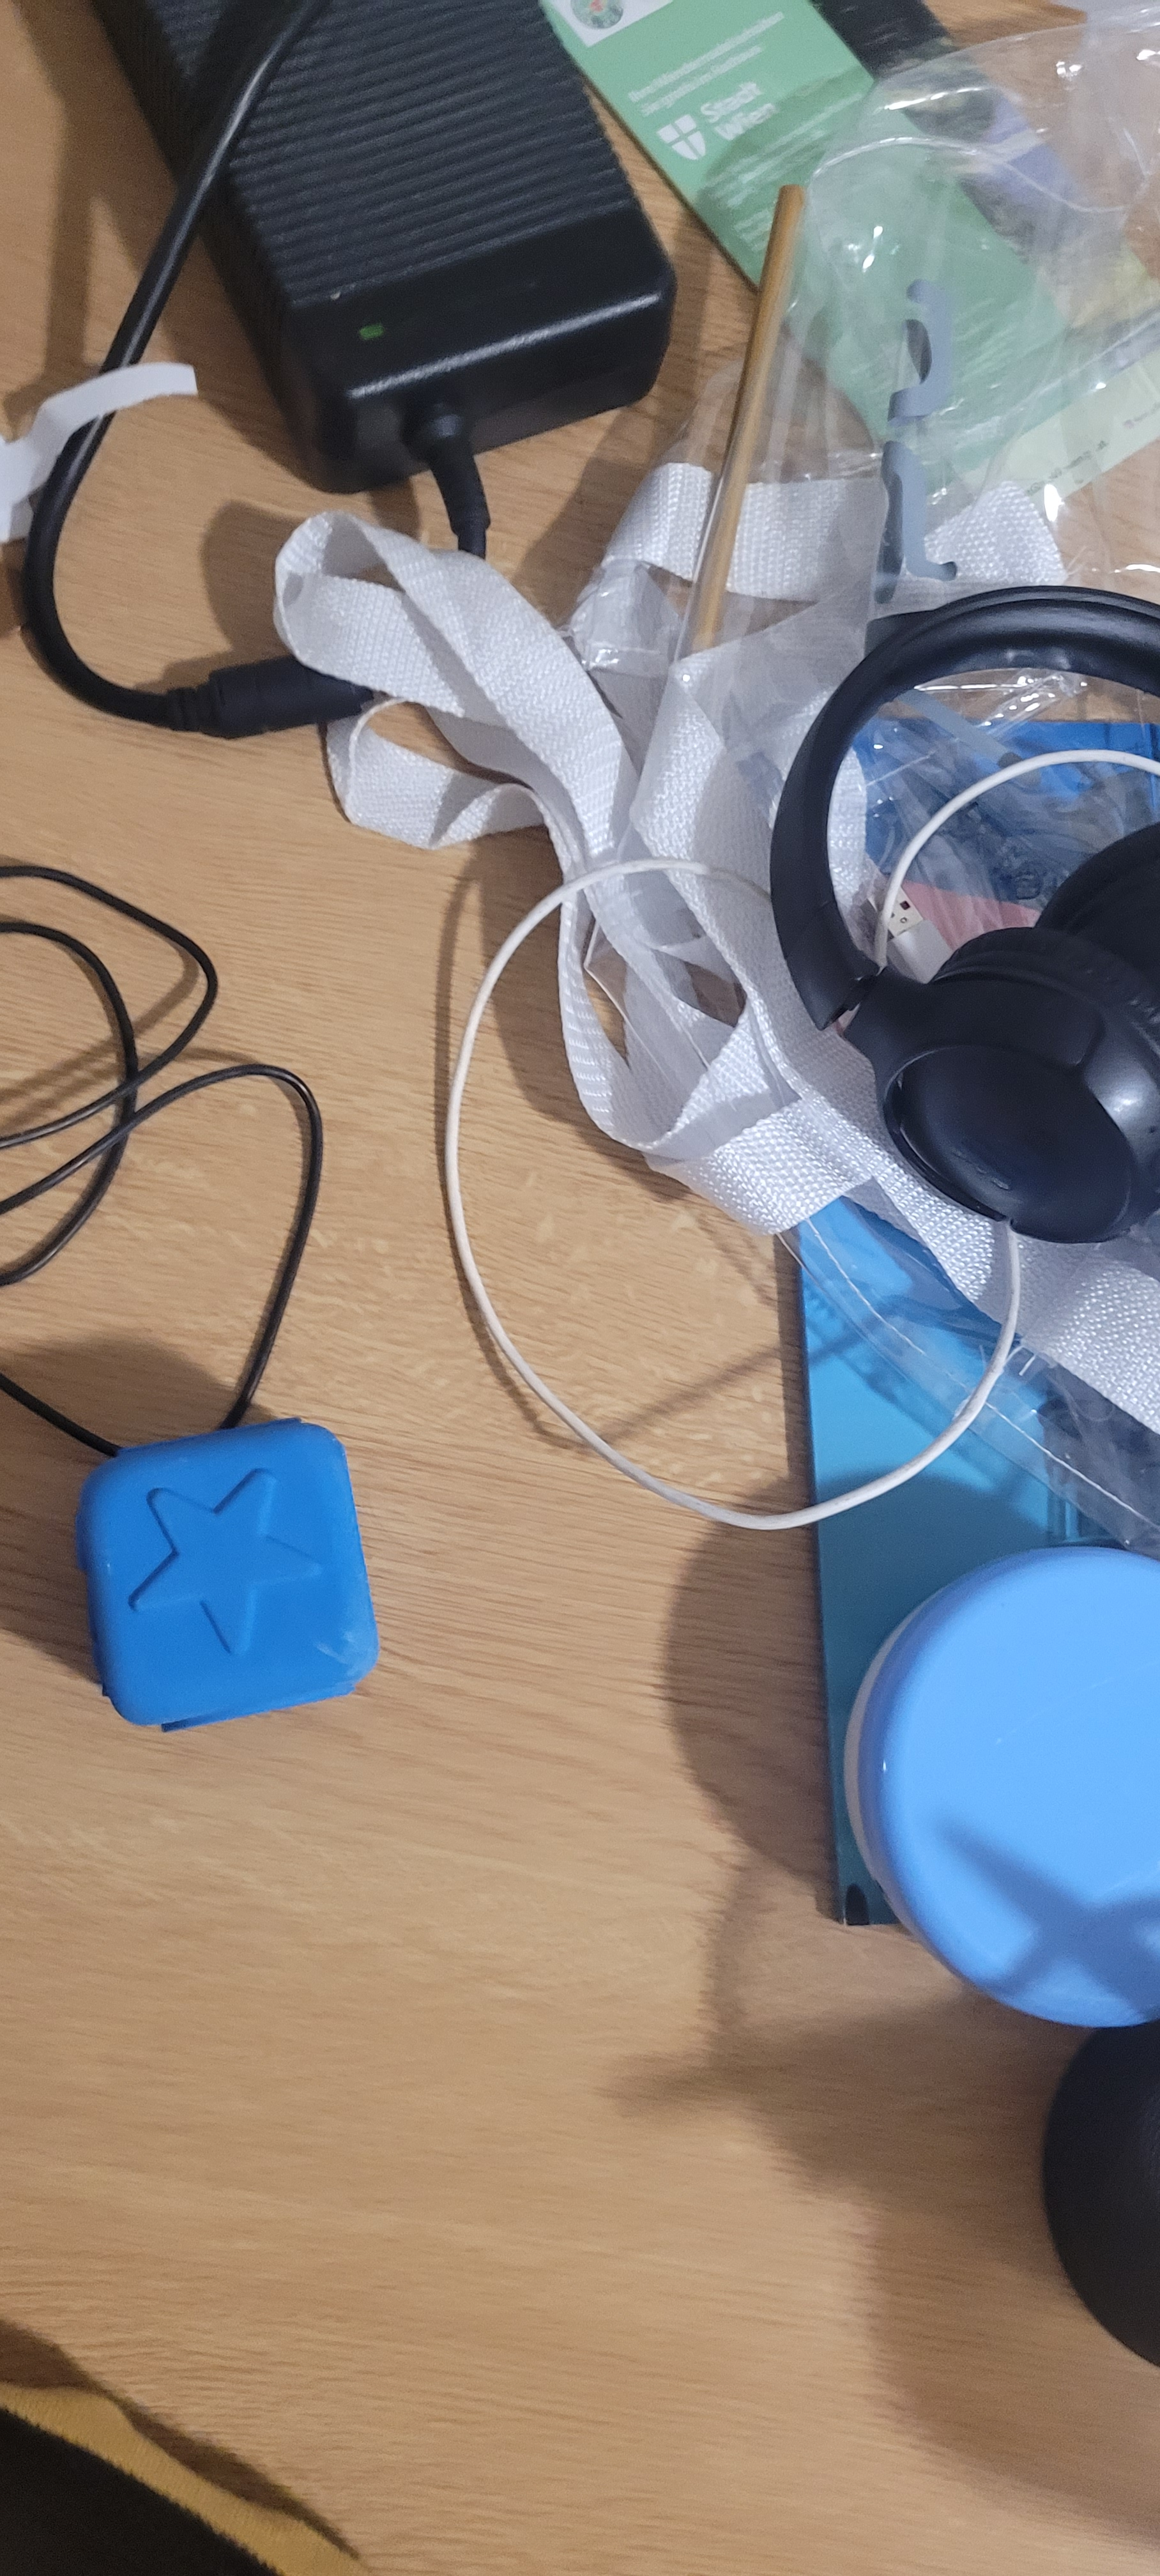Star: (92, 1464, 363, 1669)
